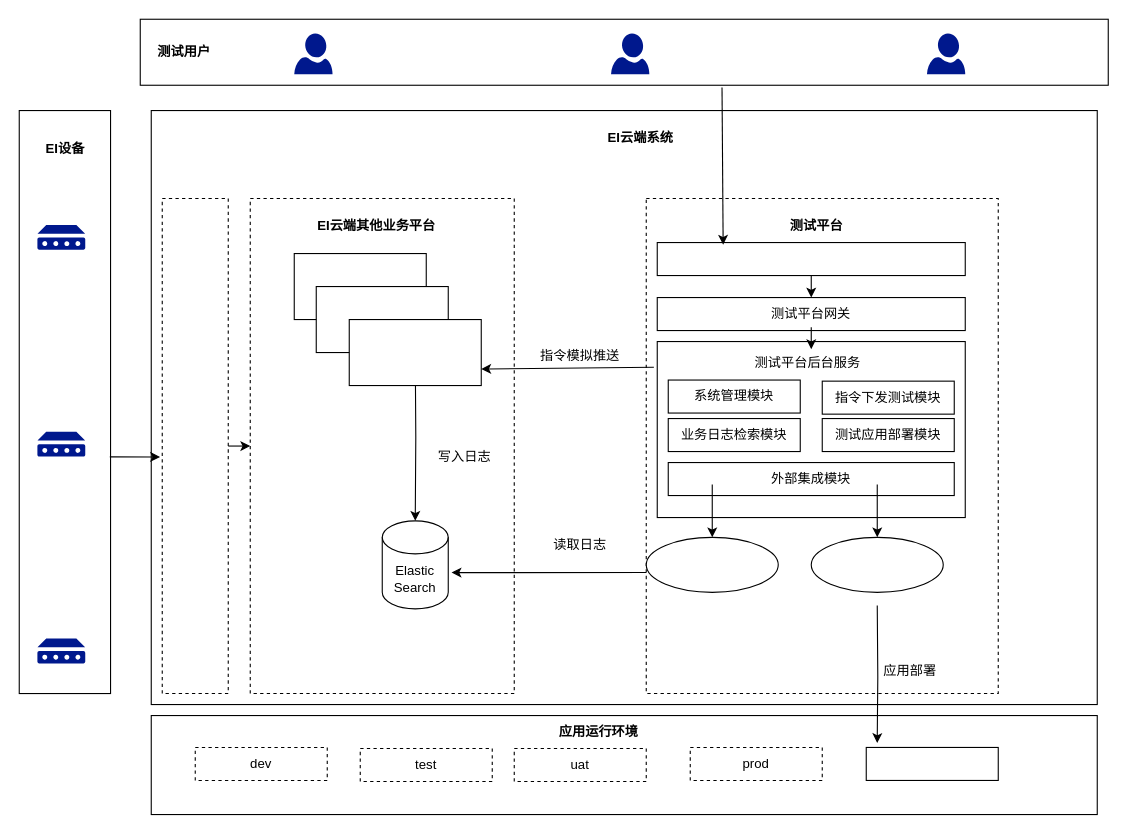
The diagram is 1128 pixels wide and 834 high, and some of its shapes have lost their labels. The box of each missing label's shape, as (x1, y1, x2, y2) in pixels:
ES API: (645, 536, 778, 592)
Jenkins API: (810, 536, 943, 592)
服务应用: (348, 318, 481, 386)
测试平台前端WEB: (656, 241, 965, 276)
测试应用运行环境: (865, 746, 998, 780)
网关: (161, 197, 228, 694)
